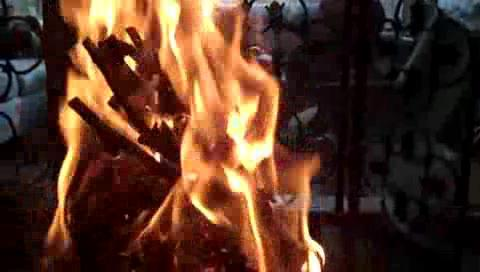fire: (57, 3, 255, 250)
